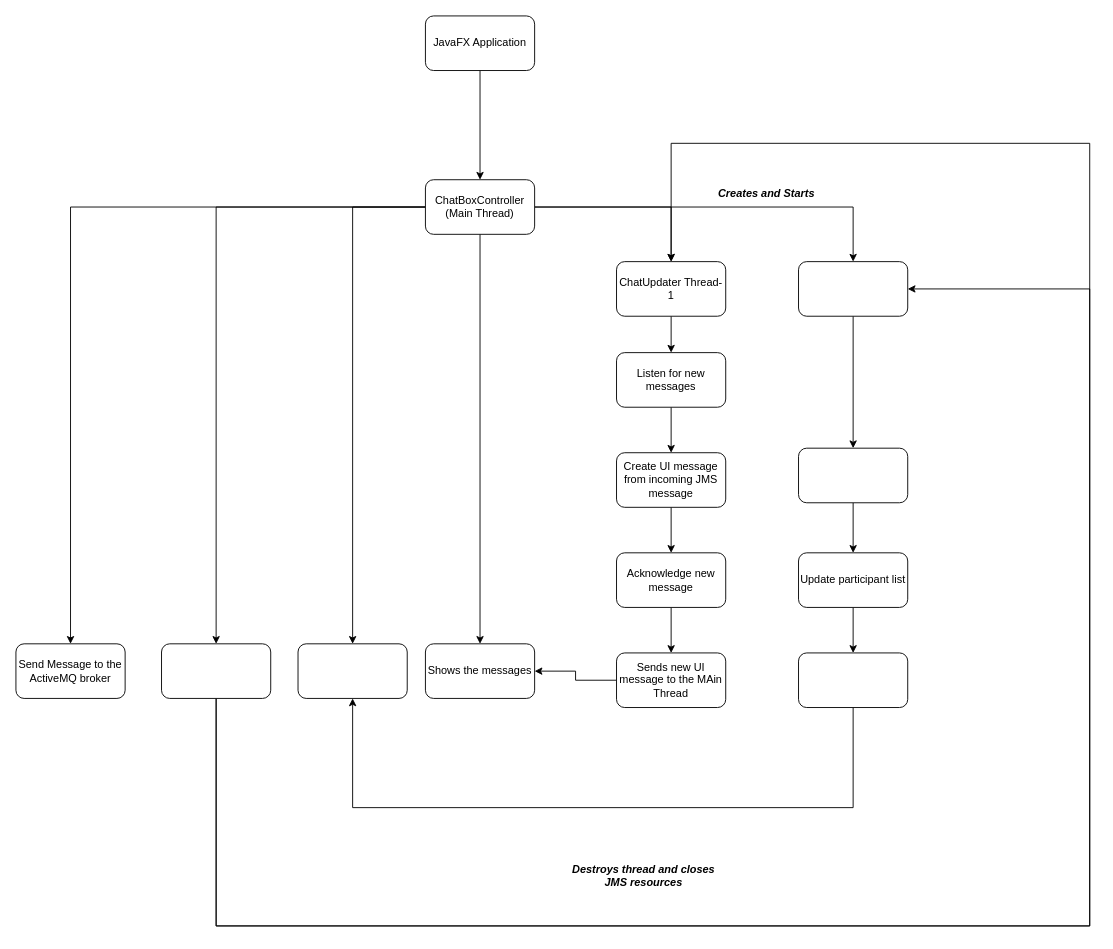
Some shapes in this 1113 by 949 pixel diagram are drawn without their labels. The box of each missing label's shape, as (x1, y1, x2, y2) in pixels:
Displays active participants: (297, 643, 407, 698)
Listen for new Topic consumers Or for removing existing ones: (798, 447, 908, 503)
On closing ChatBoxController stage: (161, 643, 271, 698)
PartcipantsUpdater Thread-2: (798, 261, 908, 316)
Sends new list to the Main Thread: (798, 652, 908, 708)
